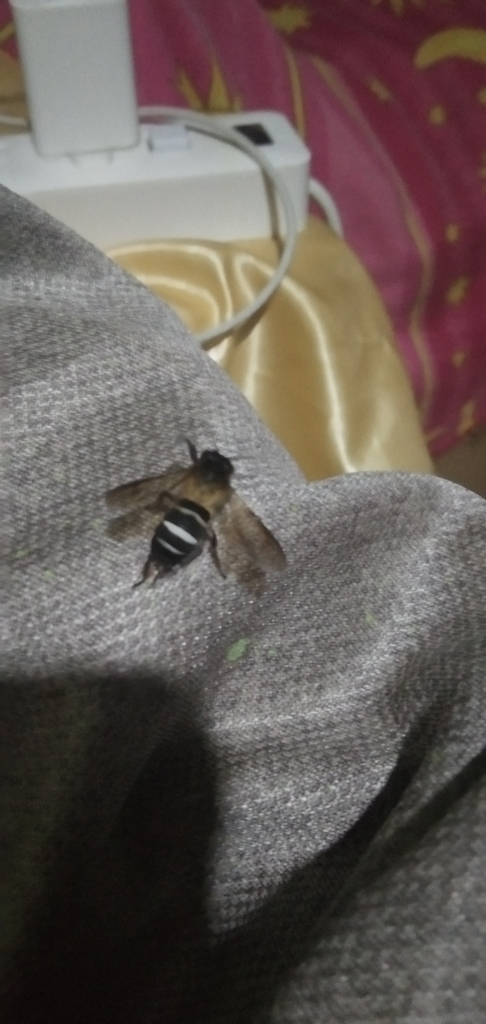honeybee: (105, 438, 288, 587)
